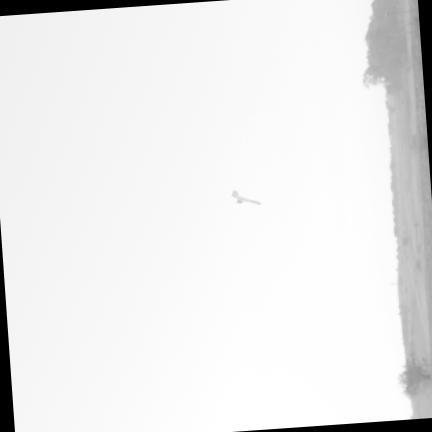Shahed: (231, 190, 260, 204)
